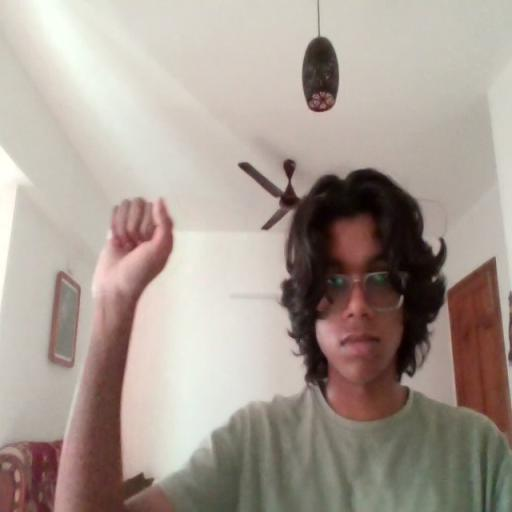Rock: (90, 193, 179, 301)
